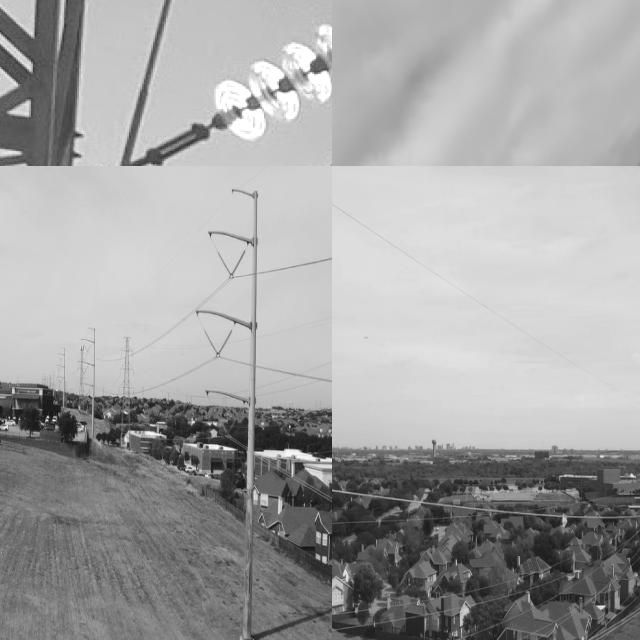杆塔: (0, 0, 125, 166), (117, 333, 136, 451), (75, 344, 88, 406)
正常绝缘子: (175, 0, 332, 166), (192, 319, 224, 363), (222, 240, 250, 289), (219, 400, 246, 449), (209, 319, 237, 366), (211, 402, 232, 443), (214, 246, 235, 282)
